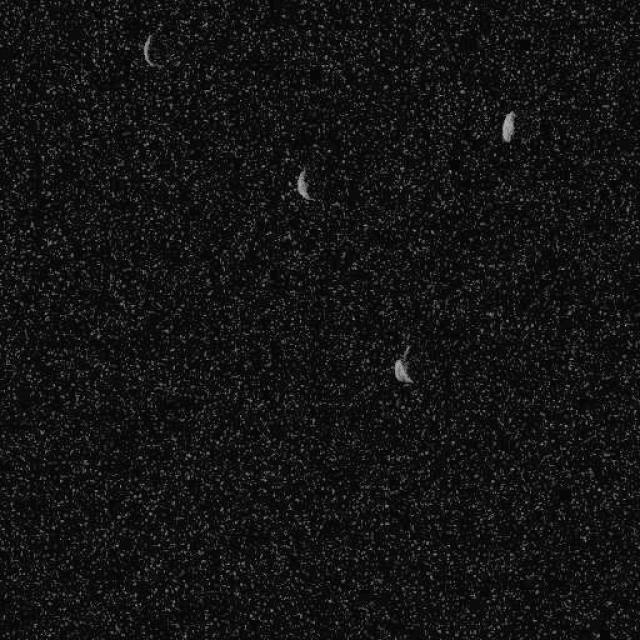D2: (294, 168, 314, 202), (392, 357, 413, 385), (500, 110, 516, 142), (142, 32, 156, 66)
